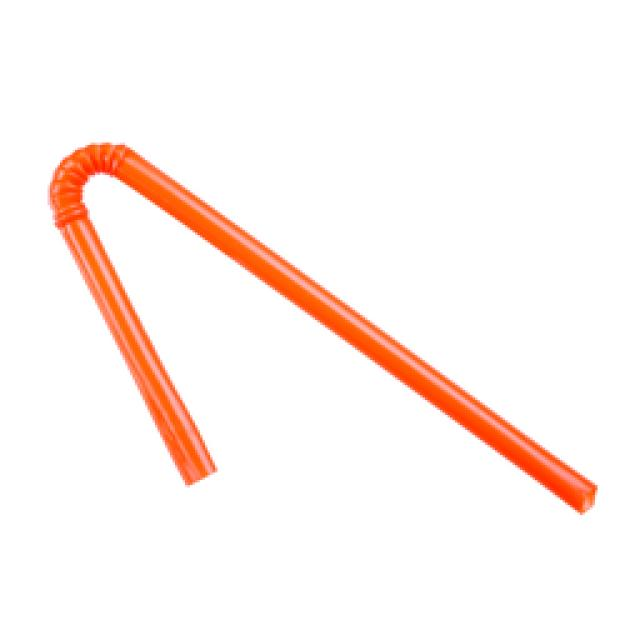plastic: (45, 137, 597, 515)
